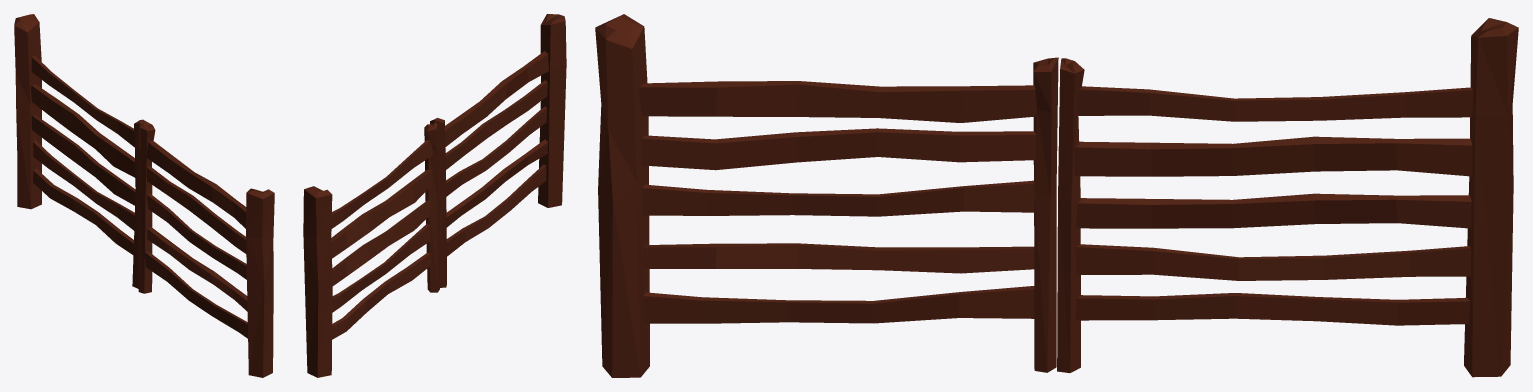
File: FenceGate.FBX
3 renders of one model, left to right at view 1: azimuth 30°, elevation 25°; view 2: azimuth 150°, elevation 25°; view 3: azimuth 270°, elevation 25°, orthographic. The views are drawn at different scales.
Parts seen in each view (by area): view 1: Gate_R, Gate_L, FenceJoint_R, FenceJoint_L; view 2: Gate_L, Gate_R, FenceJoint_L, FenceJoint_R; view 3: Gate_R, Gate_L, FenceJoint_R, FenceJoint_L.
Part boxes in pixels (<box>): Gate_R: <box>138,120,247,338</box>; Gate_L: <box>31,55,144,288</box>; FenceJoint_R: <box>246,188,274,377</box>; FenceJoint_L: <box>14,14,41,209</box>; Gate_L: <box>331,123,439,339</box>; Gate_R: <box>430,51,548,287</box>; FenceJoint_L: <box>303,186,332,377</box>; FenceJoint_R: <box>538,14,566,207</box>; Gate_R: <box>639,57,1058,372</box>; Gate_L: <box>1057,58,1472,372</box>; FenceJoint_R: <box>595,14,649,377</box>; FenceJoint_L: <box>1464,18,1518,377</box>.
Bounding box in the file's own units: 1.25 × 8.82 × 21.36.
